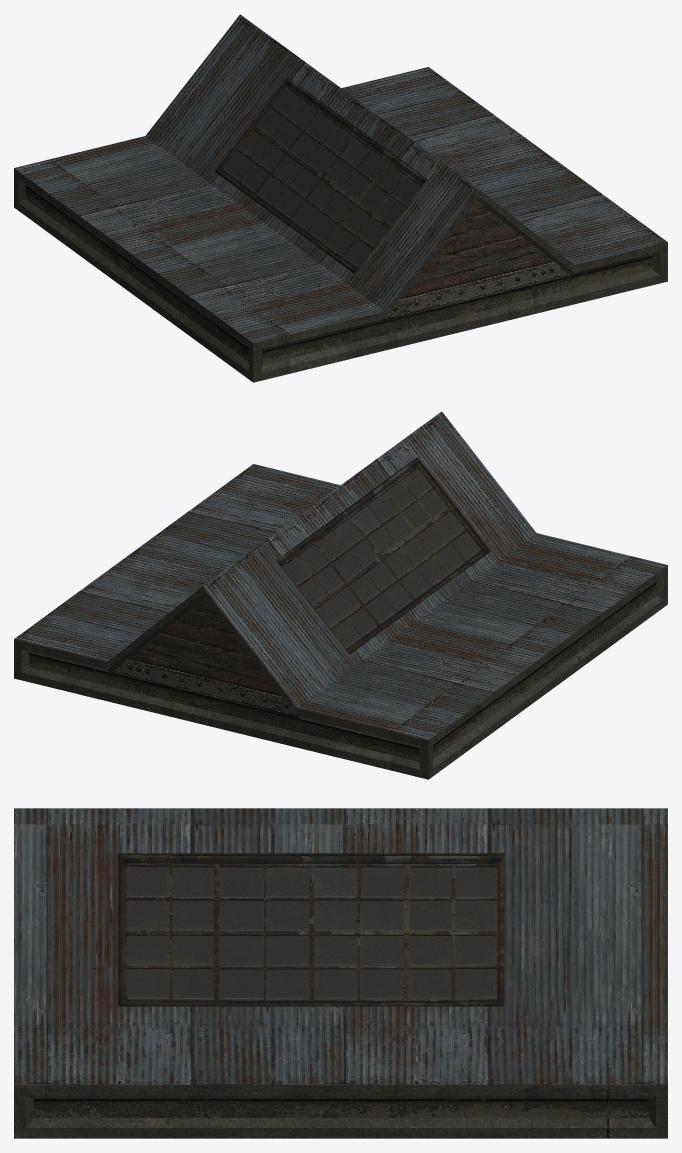
The model's file is roof_bx_1_corner_1.glb.
3 views of the same model, one above another, from view 1: azimuth 30°, elevation 25°; view 2: azimuth 150°, elevation 25°; view 3: azimuth 270°, elevation 25° (orthographic). The views are drawn at different scales.
Visible parts, largest first — view 1: roof_bx_1_corner_1; view 2: roof_bx_1_corner_1; view 3: roof_bx_1_corner_1.
Boxes of the visible parts, x1,y1,x2,y2 form: roof_bx_1_corner_1: (14,14,667,382); roof_bx_1_corner_1: (14,411,667,779); roof_bx_1_corner_1: (14,808,667,1138).
Bounding box in the file's own units: 4.4 × 1.4 × 4.4.
4 materials, 4 textured.
